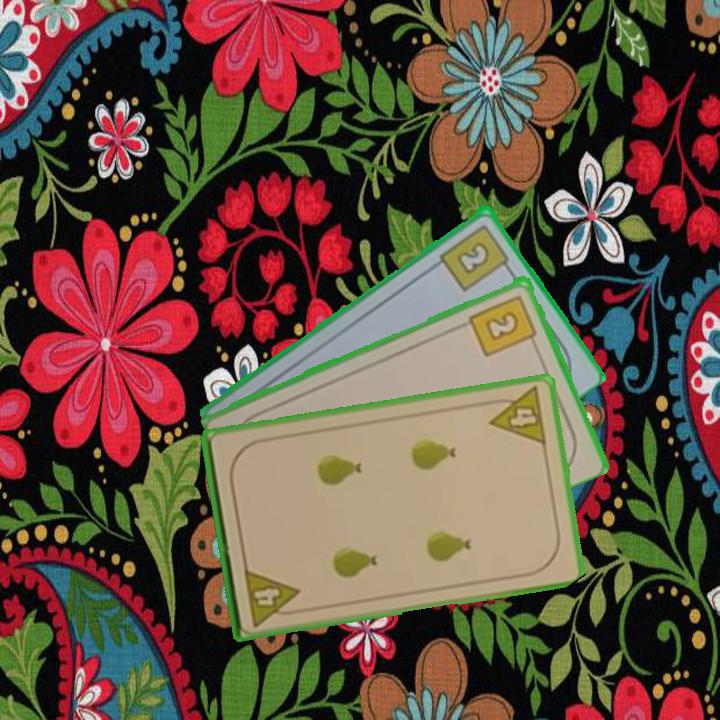2b: (436, 220, 515, 294), (466, 291, 540, 360)
4p: (483, 383, 549, 448), (240, 564, 304, 629)
